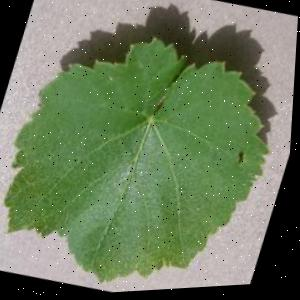Folha: (0, 5, 299, 300)
